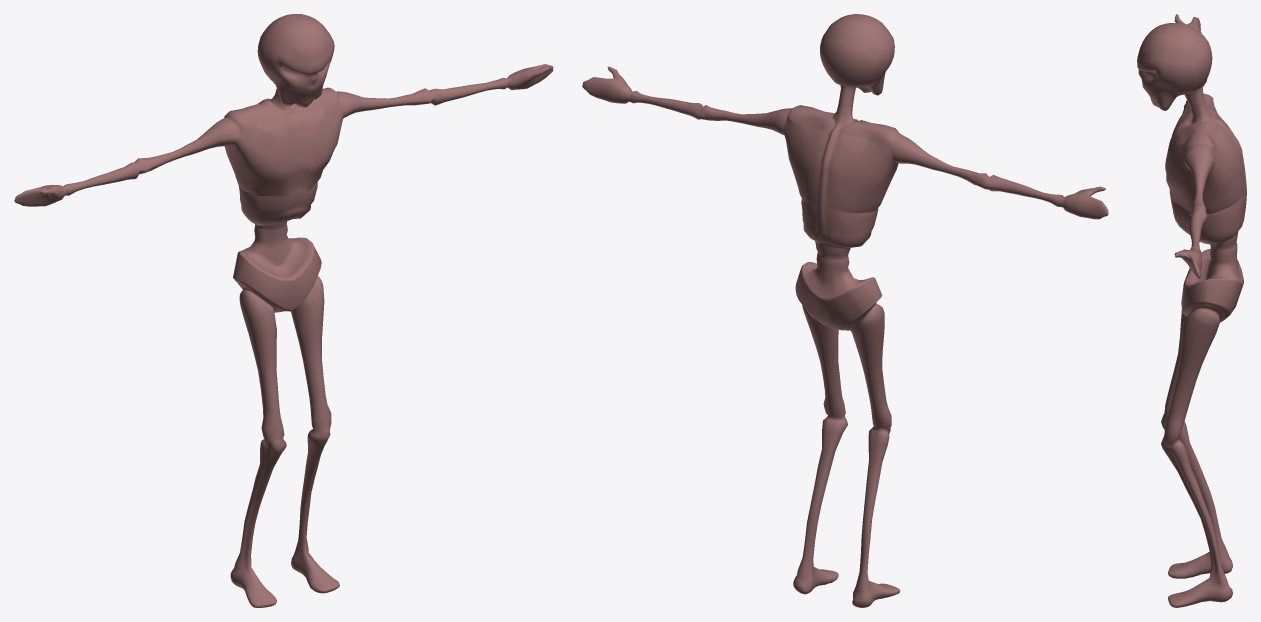
Rendered from Squeleton_1_LOW.fbx.
3 renders of one model, left to right at view 1: azimuth 30°, elevation 25°; view 2: azimuth 150°, elevation 25°; view 3: azimuth 270°, elevation 25°, orthographic. The views are drawn at different scales.
Parts seen in each view (by area): view 1: Squeleton_1_LOW_V2; view 2: Squeleton_1_LOW_V2; view 3: Squeleton_1_LOW_V2.
Boxes of the visible parts, bbox=[...] form: Squeleton_1_LOW_V2: bbox=[14, 14, 553, 607]; Squeleton_1_LOW_V2: bbox=[582, 14, 1108, 607]; Squeleton_1_LOW_V2: bbox=[1137, 14, 1246, 607].
Bounding box in the file's own units: 455 × 469 × 82.84.
